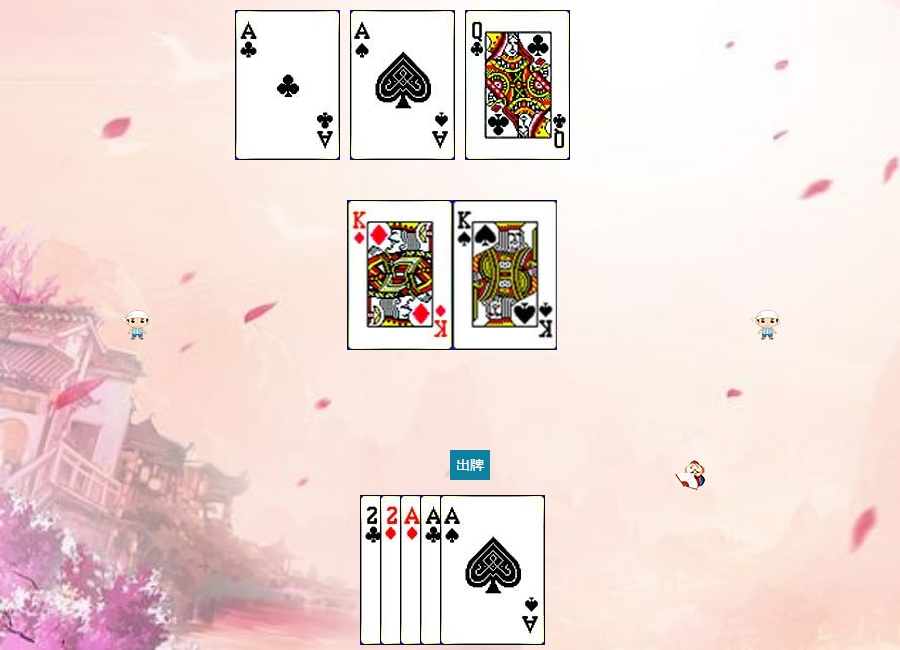12~2: (465, 10, 570, 160)
13~1: (348, 200, 453, 350)
13~4: (453, 200, 558, 350)
14~1: (400, 495, 505, 645)
14~2: (235, 10, 340, 160), (420, 495, 525, 645)
14~4: (350, 10, 455, 160), (440, 495, 545, 645)
15~1: (380, 495, 485, 645)
15~2: (360, 495, 465, 645)
